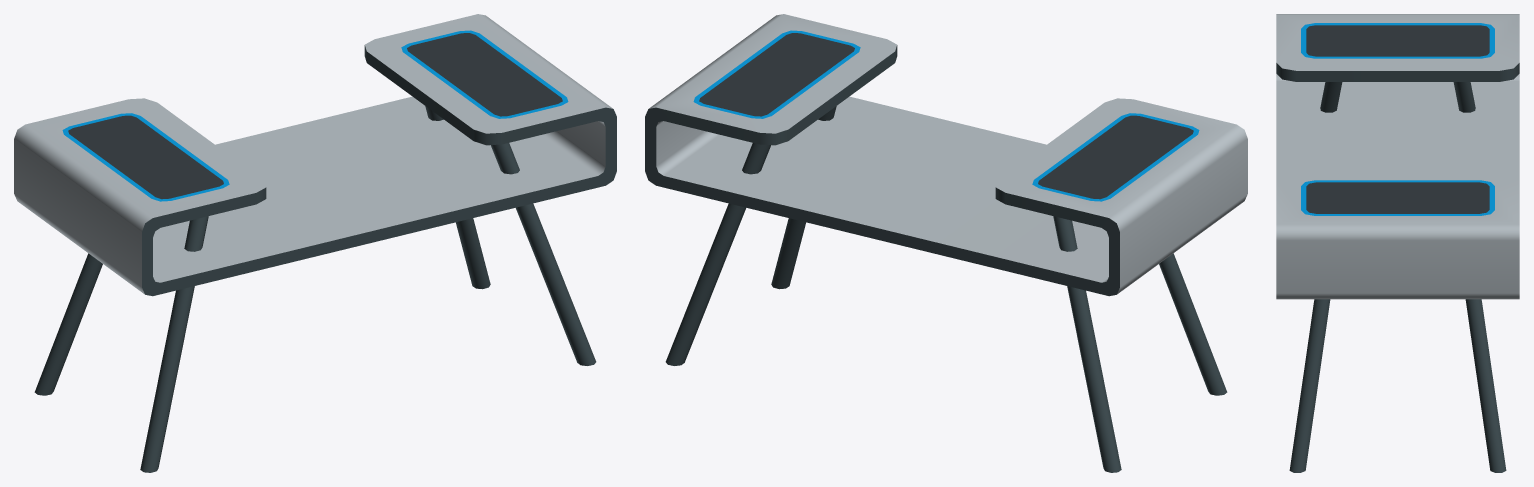
Rendered from Desk_032.fbx.
The picture shows the model from 3 angles, left to right: view 1: azimuth 30°, elevation 25°; view 2: azimuth 150°, elevation 25°; view 3: azimuth 270°, elevation 25°; orthographic projection. The views are drawn at different scales.
Visible parts, largest first — view 1: Desk_032; view 2: Desk_032; view 3: Desk_032.
Boxes of the visible parts, x1,y1,x2,y2 form: Desk_032: (14,14,616,472); Desk_032: (645,14,1247,472); Desk_032: (1276,14,1519,472).
Bounding box in the file's own units: 224 × 104 × 118.
